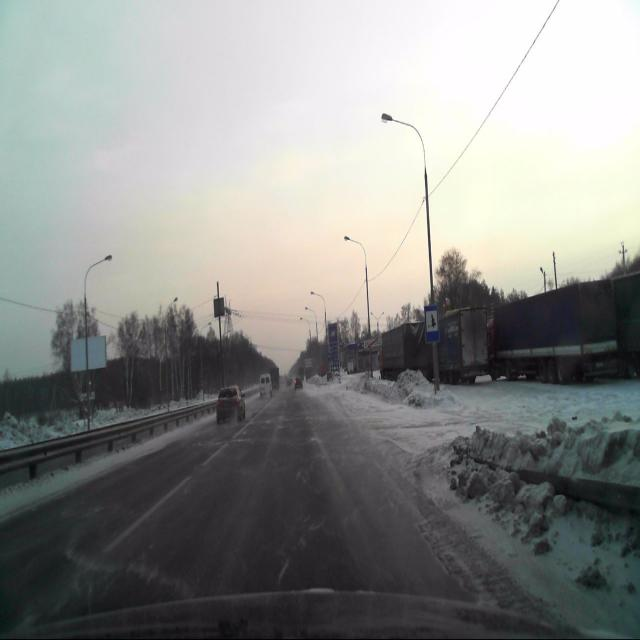road sign: (423, 305, 440, 346)
